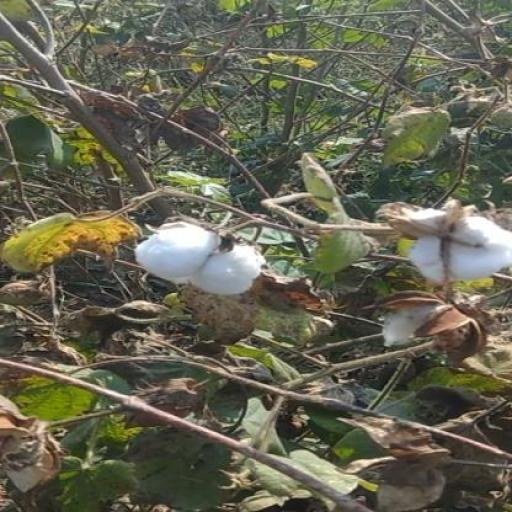cotton_ready: (128, 208, 278, 304), (386, 195, 511, 299)
